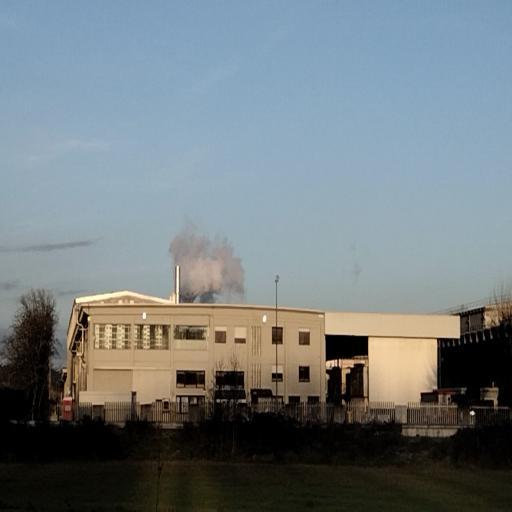leakage: (168, 216, 251, 308)
